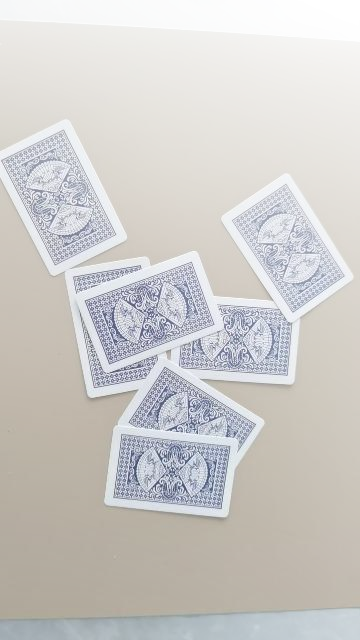card: (0, 120, 126, 275), (221, 174, 352, 322), (76, 251, 224, 372), (119, 359, 264, 463), (65, 256, 159, 398), (105, 426, 238, 517), (170, 298, 300, 385), (81, 350, 134, 398)
